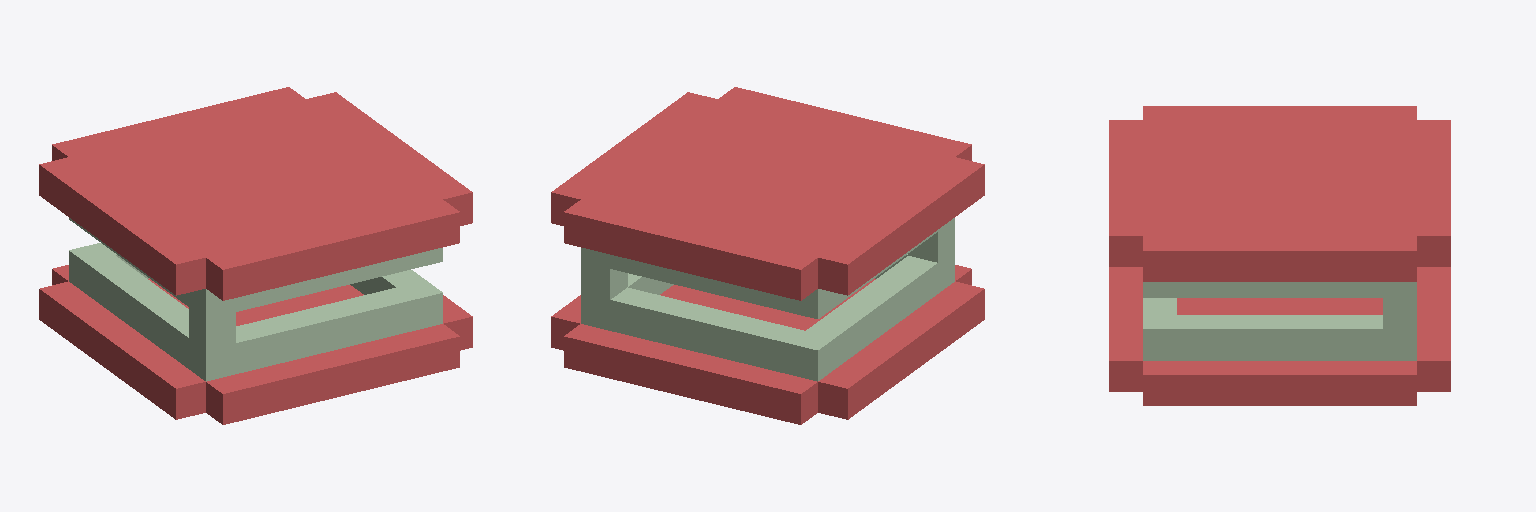
3 views of the same model, side by side, from view 1: azimuth 30°, elevation 25°; view 2: azimuth 150°, elevation 25°; view 3: azimuth 270°, elevation 25° (orthographic).
Visible parts, largest first — view 1: object 1; view 2: object 1; view 3: object 1.
Boxes of the visible parts, <box> form: object 1: <box>39,87,472,424</box>; object 1: <box>551,87,984,424</box>; object 1: <box>1109,106,1450,405</box>.
Size of the model in its own units: 1 by 0.5 by 1.
Materials: 1 (1 with a texture image).